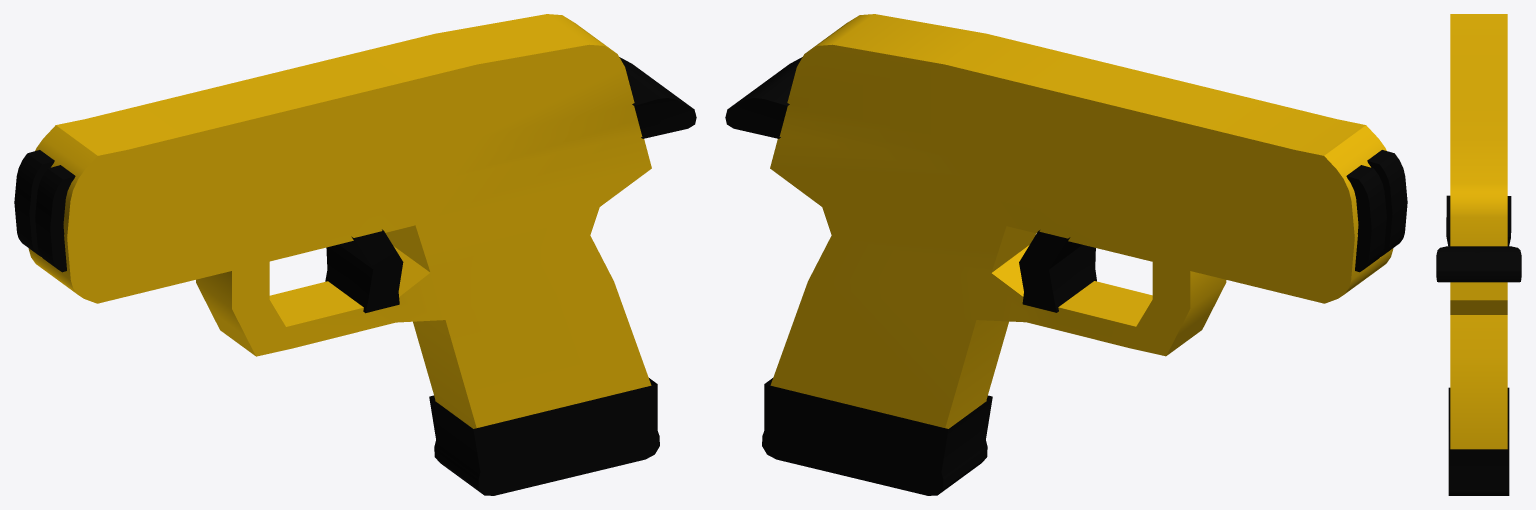
The model's file is Taser.fbx.
The picture shows the model from 3 angles, left to right: view 1: azimuth 30°, elevation 25°; view 2: azimuth 150°, elevation 25°; view 3: azimuth 270°, elevation 25°; orthographic projection. The views are drawn at different scales.
Visible parts, largest first — view 1: TaserGun, TaserGun.001, TaserGun.002, Cube.014, Cube.013, Cube.012; view 2: TaserGun, TaserGun.001, TaserGun.002, Cube.014, Cube.012, Cube.013; view 3: TaserGun, TaserGun.001, Cube.014, TaserGun.002.
Part boxes in pixels (<box>): TaserGun: <box>28,14,651,428</box>; TaserGun.001: <box>429,378,659,495</box>; TaserGun.002: <box>325,229,403,313</box>; Cube.014: <box>619,57,696,138</box>; Cube.013: <box>35,165,75,272</box>; Cube.012: <box>14,150,54,256</box>; TaserGun: <box>770,14,1393,428</box>; TaserGun.001: <box>762,378,992,495</box>; TaserGun.002: <box>1019,230,1096,312</box>; Cube.014: <box>725,57,802,138</box>; Cube.012: <box>1346,165,1386,272</box>; Cube.013: <box>1367,150,1407,256</box>; TaserGun: <box>1450,14,1507,449</box>; TaserGun.001: <box>1448,387,1509,495</box>; Cube.014: <box>1436,246,1521,282</box>; TaserGun.002: <box>1446,195,1511,246</box>.
Size of the model in its own units: 139 by 91.51 by 23.66.
